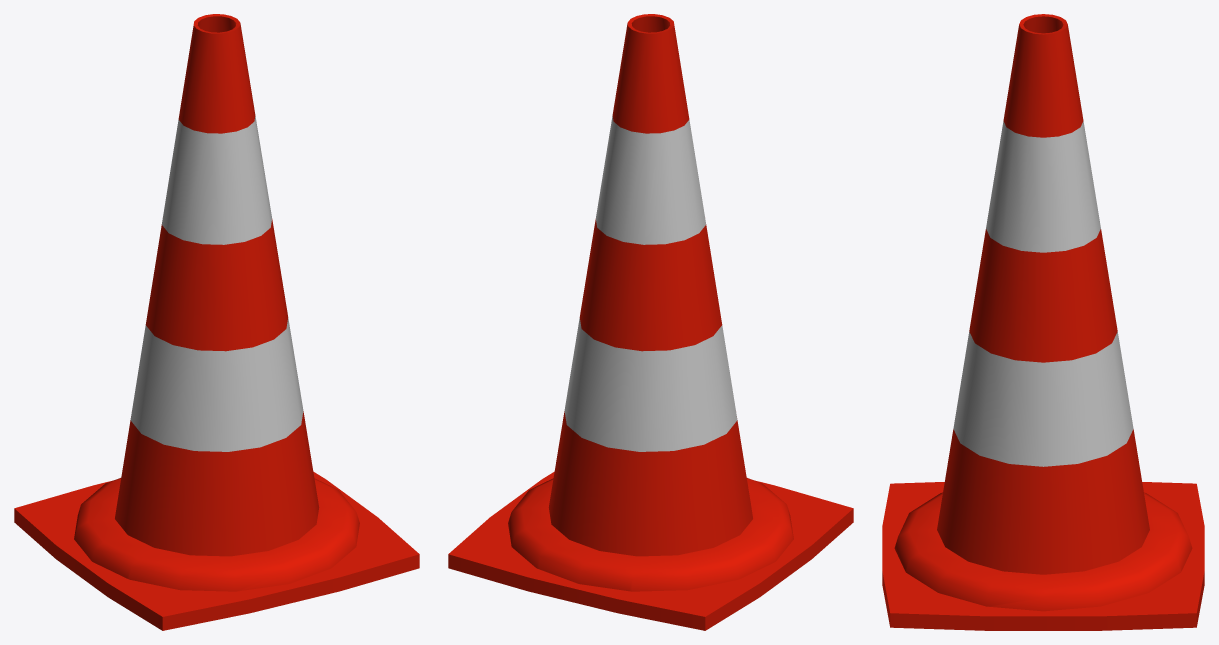
Rendered from sweethome3d-scopia-cone-261.glb.
3 renders of one model, left to right at view 1: azimuth 30°, elevation 25°; view 2: azimuth 150°, elevation 25°; view 3: azimuth 270°, elevation 25°, orthographic. The views are drawn at different scales.
Parts seen in each view (by area): view 1: Cube_Cube.001; view 2: Cube_Cube.001; view 3: Cube_Cube.001.
Part boxes in pixels (box(x1,y1,x2,y2)): Cube_Cube.001: box(14, 14, 419, 630); Cube_Cube.001: box(448, 14, 853, 630); Cube_Cube.001: box(882, 14, 1204, 630).
Bounding box in the file's own units: 37.94 × 70 × 37.94.
